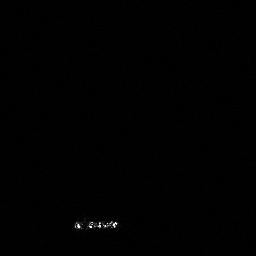ship: (69, 216, 122, 233)
